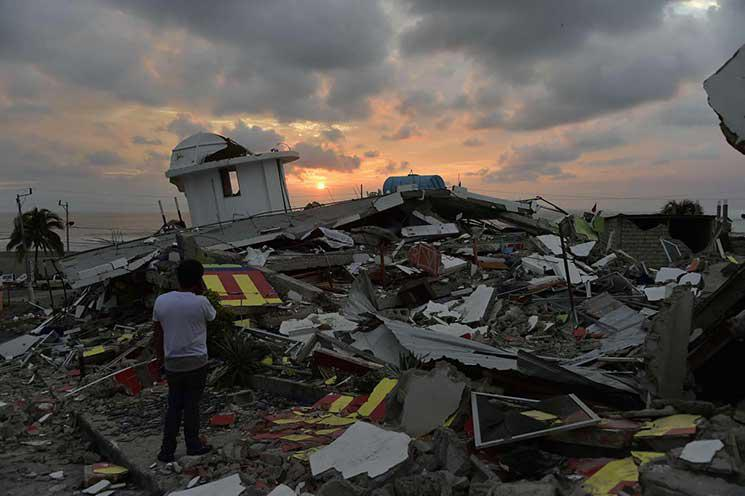destroyed: (52, 129, 727, 442)
